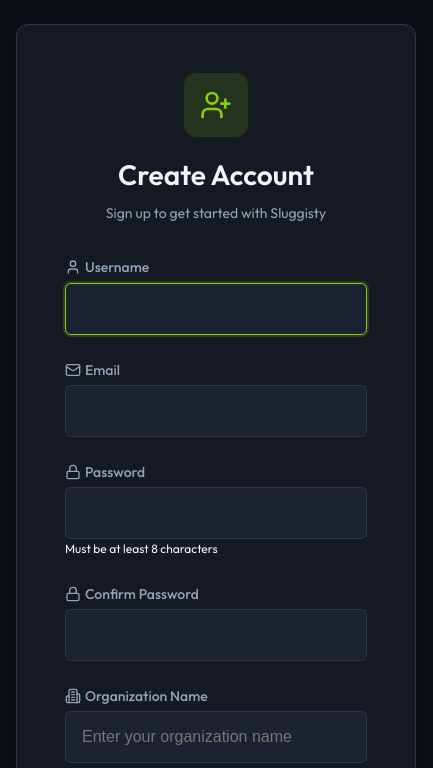
Scenario: Register › shows error when passwords do not match
The image size is (433, 768).
Type "testuser" into the field labelled "Username" at (216, 309), box [65, 283, 367, 335]
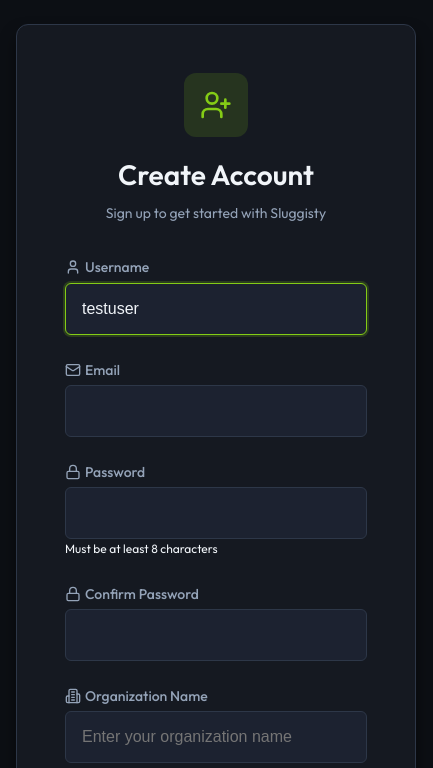
Type "test@example.com" into the field labelled "Email" at (216, 411), box [65, 385, 367, 437]
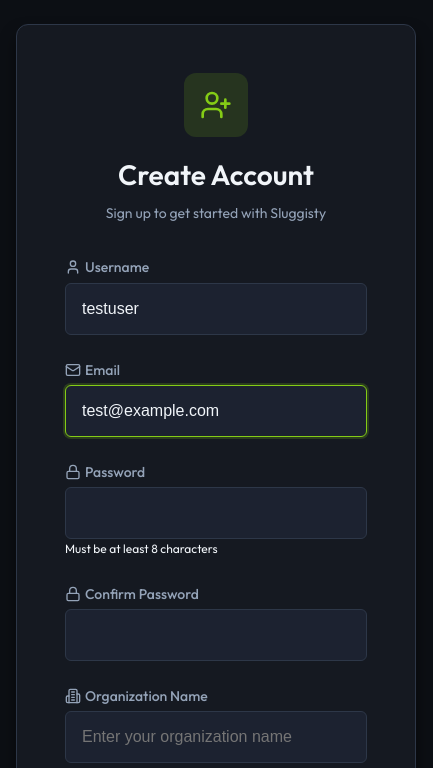
Type "StrongP@ss123" into the password field labelled "Password" at (216, 513), box [65, 487, 367, 539]
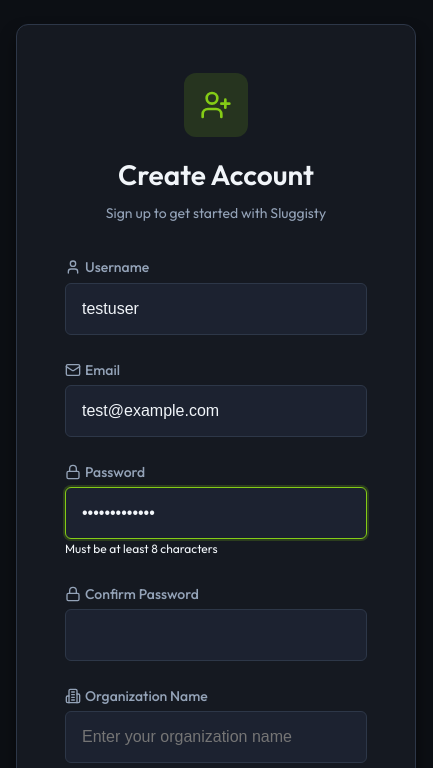
Type "password456" into the password field labelled "Confirm Password" at (216, 635), box [65, 609, 367, 661]
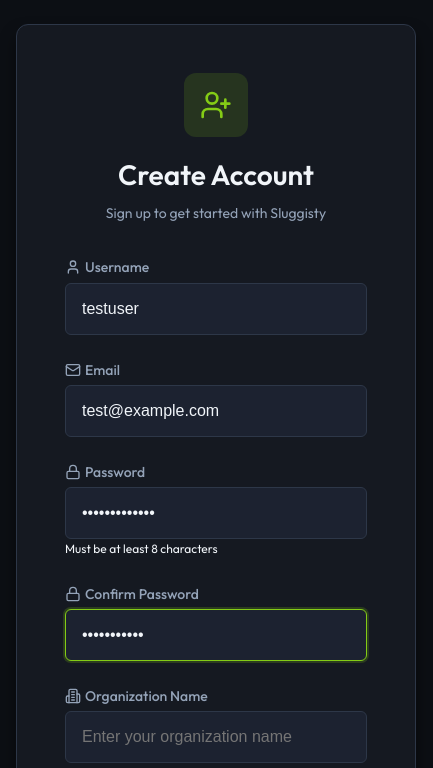
Type "Test Org" into the field labelled "Organization Name" at (216, 737), box [65, 711, 367, 763]
(page scrolled)
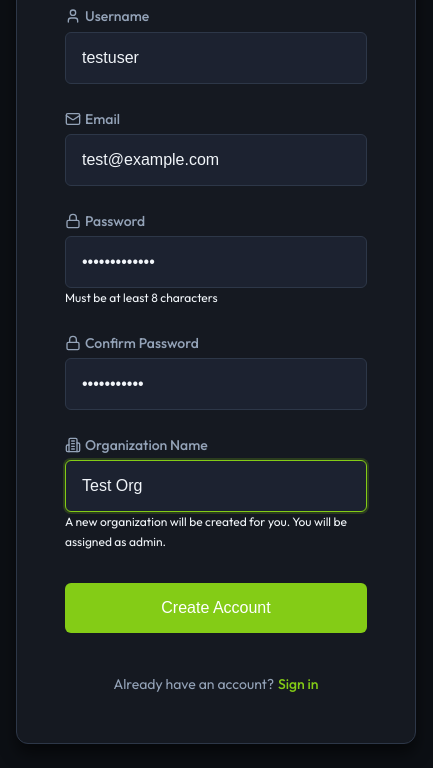
Click the button "Create Account" at (216, 608), box [65, 583, 367, 633]
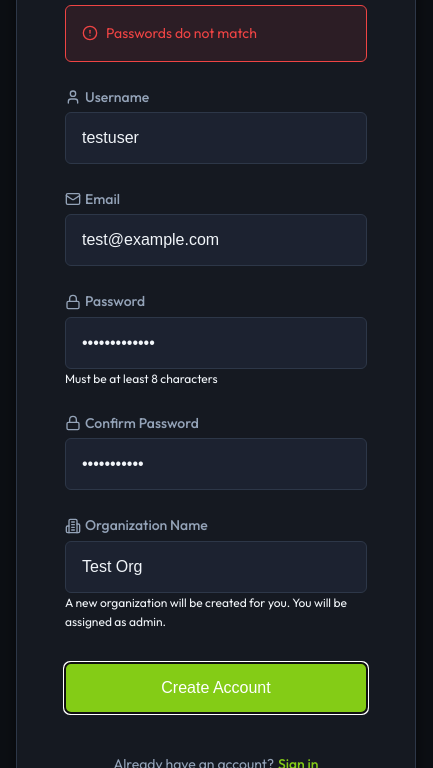
Check: the text "Passwords do not match" is shown, box [106, 22, 257, 45]
